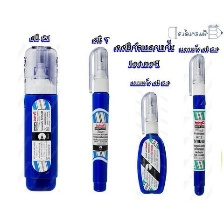correction_fluid: (21, 42, 60, 193), (86, 45, 112, 194), (134, 90, 169, 196), (187, 52, 208, 197)
